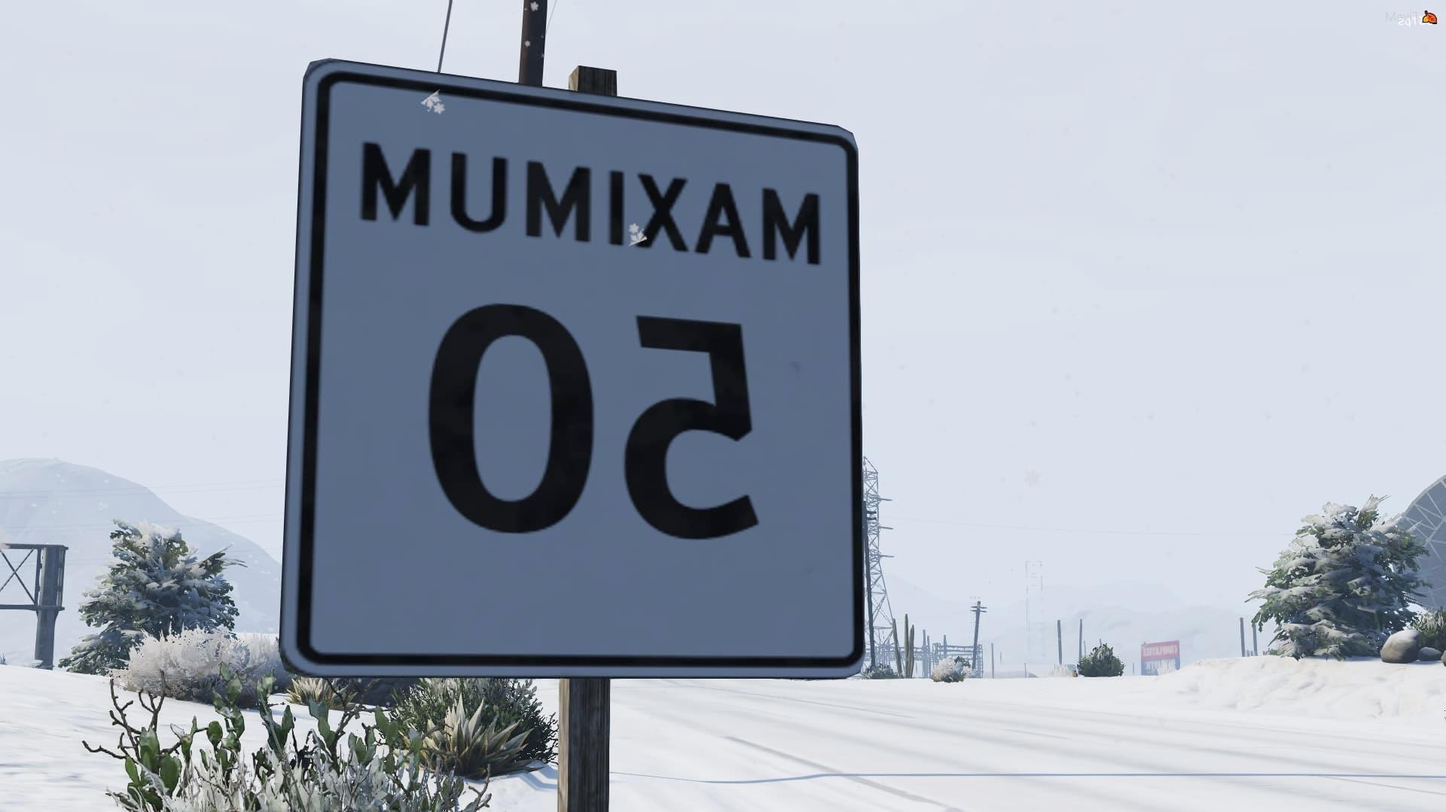speed limit sign: (276, 53, 858, 673)
